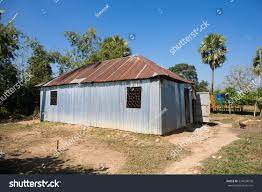Tin-shade House: (36, 57, 203, 139)
